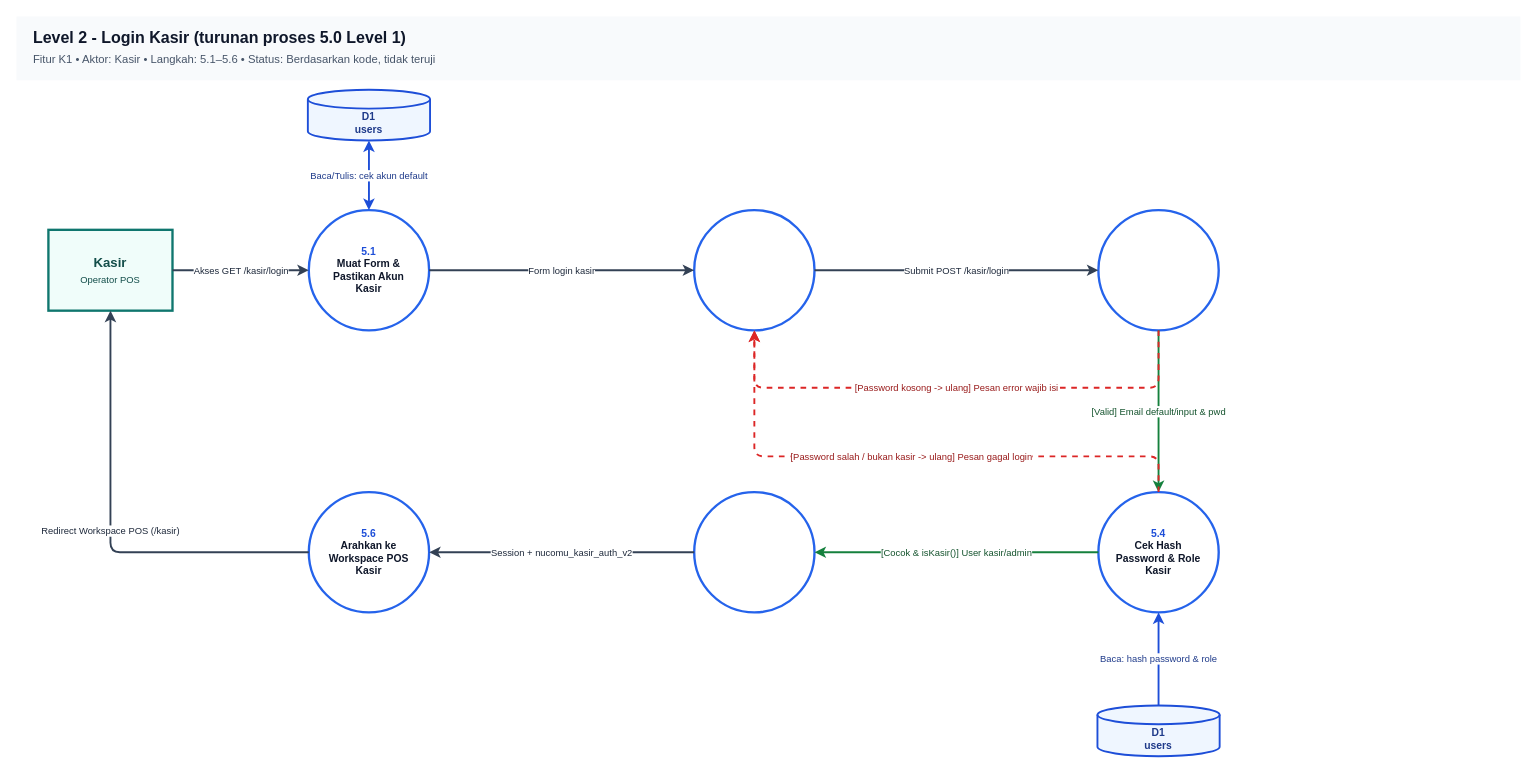
The diagram is 1536 pixels wide and 773 high, and some of its shapes have lost their labels. Each missing label, with the centre of its shape:
"5.2 Input Password (& Email Kasir)" belongs at point (754, 269).
"5.3 Validasi Password Wajib Isi" belongs at point (1158, 269).
"5.5 Buat Sesi & Cookie HMAC POS" belongs at point (754, 551).
